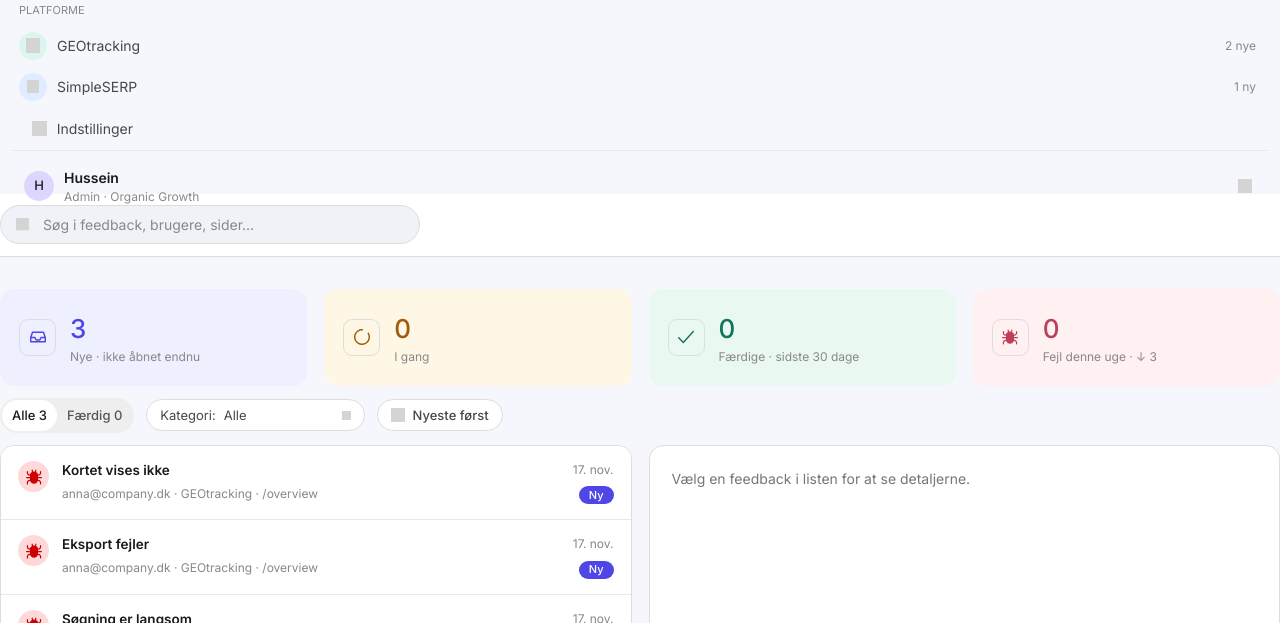
Test: side menu and inbox together › keeps ticket changes but resets the inbox view when the inbox remounts (US1-6, US1-7)
Later steps or results of the test are not shown.
What coordinates should you click on to do the following:
click the button "Eksport fejler"
I would click on:
 (316, 557)
Its box is [1,520,630,595].
(page scrolled)
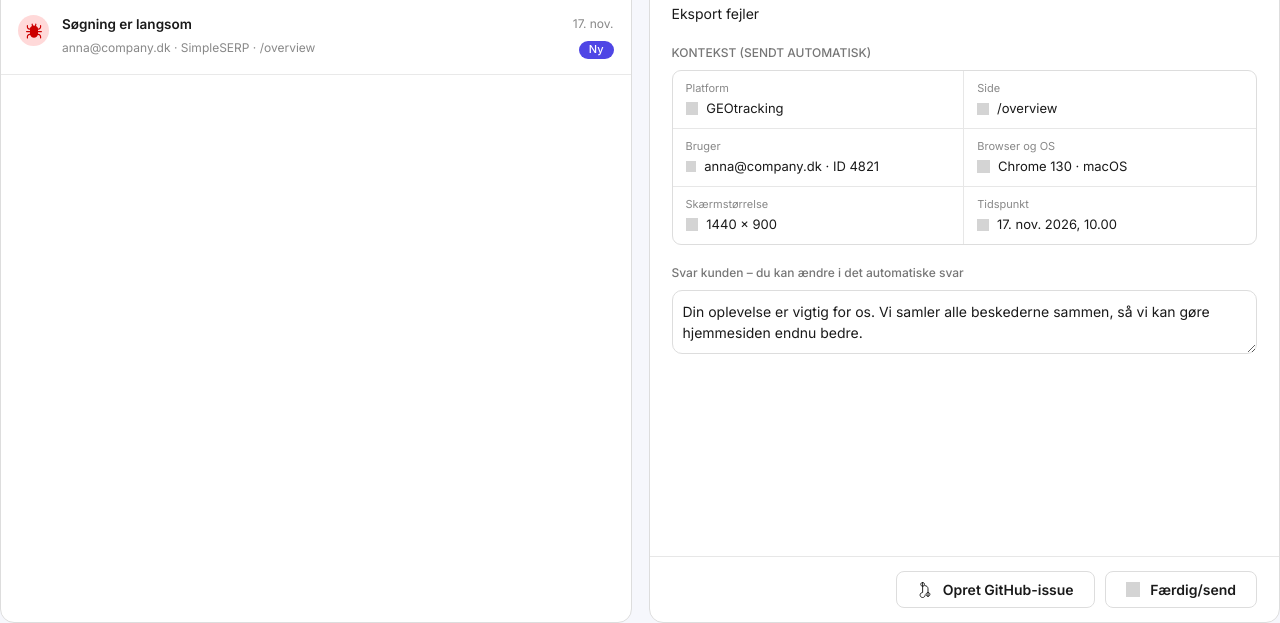
What coordinates should you click on to do the following:
click the button "Færdig/send"
I would click on:
 (1181, 590)
Its box is [1105,571,1257,608].
(page scrolled)
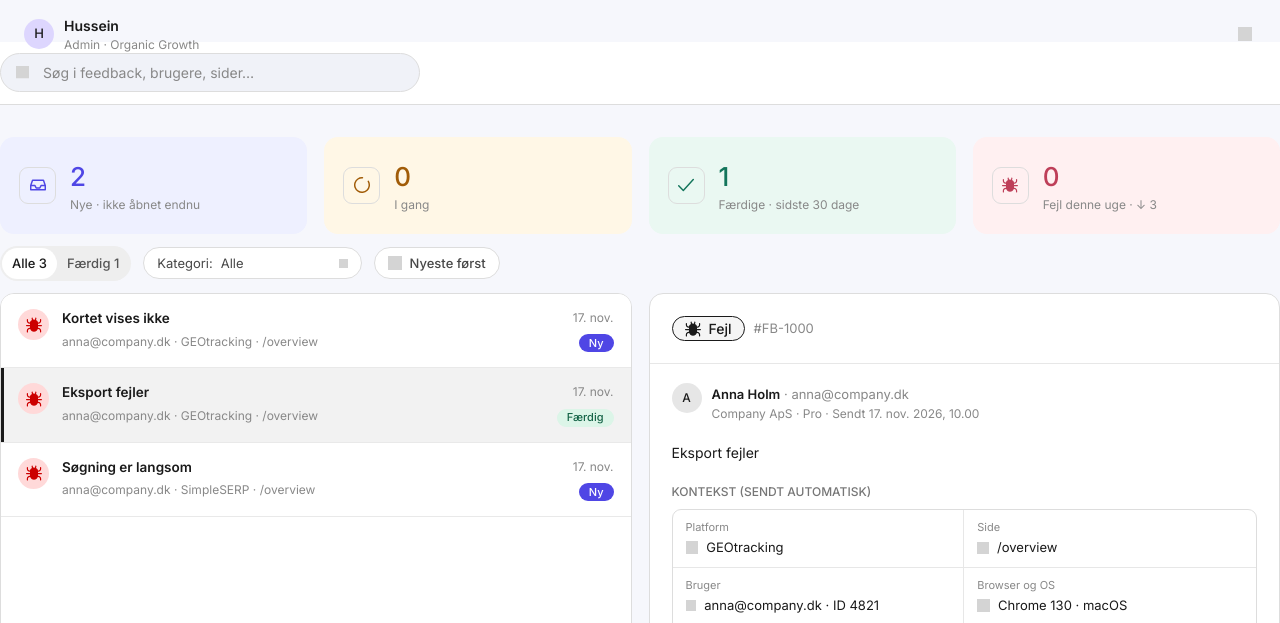
What coordinates should you click on to do the following:
click the button "Færdig 1"
I would click on:
 (93, 263)
Its box is [57,248,129,279].
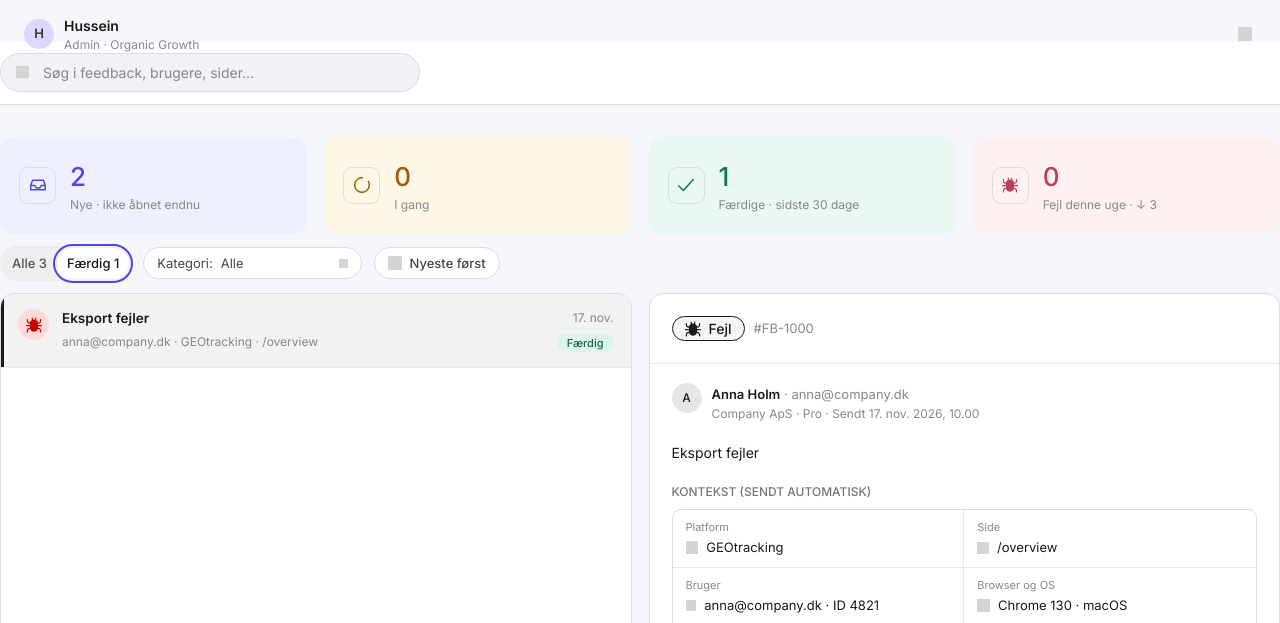
Now the button "Færdig 1" is pressed, box [57,248,129,279]
